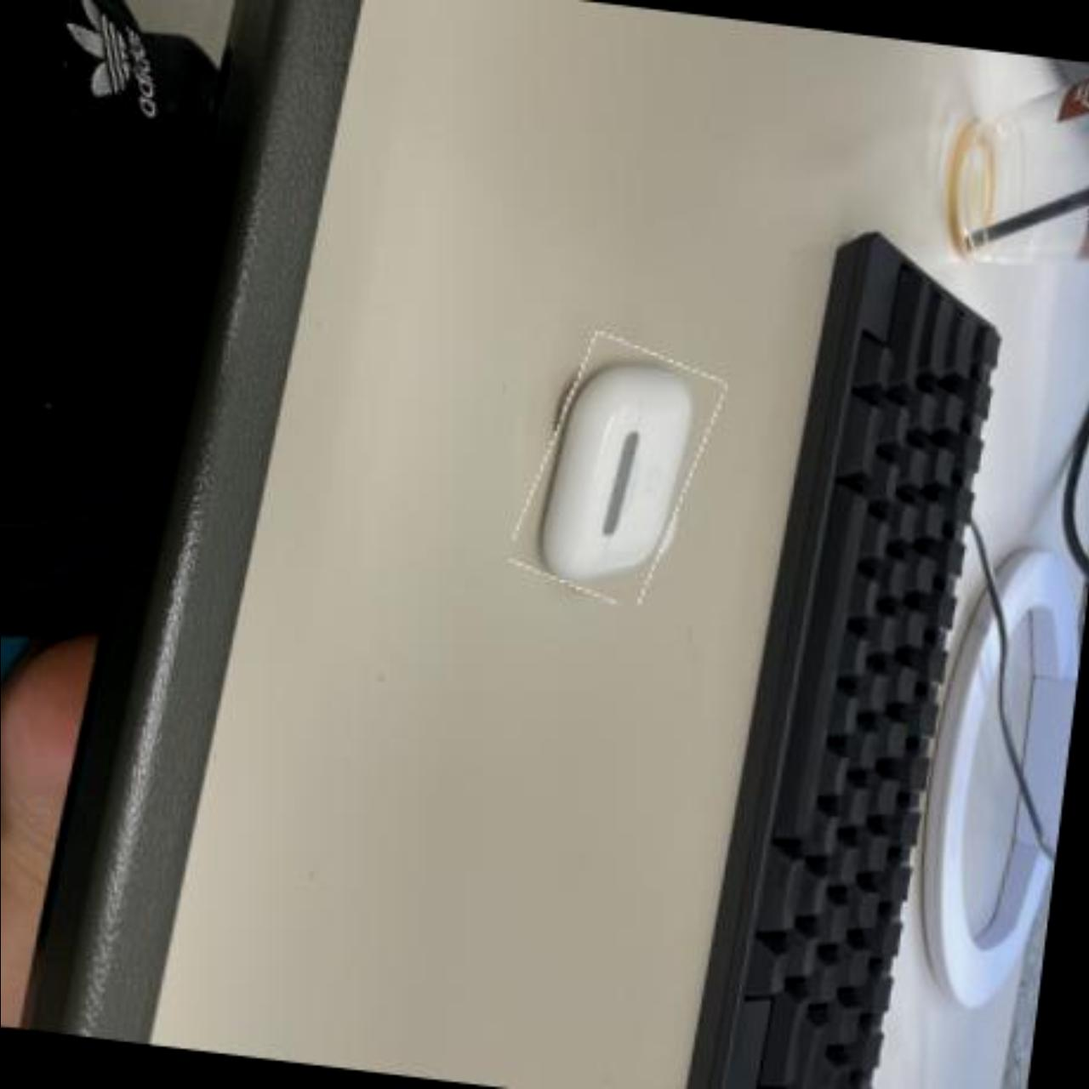AirPods: (518, 334, 716, 608)
